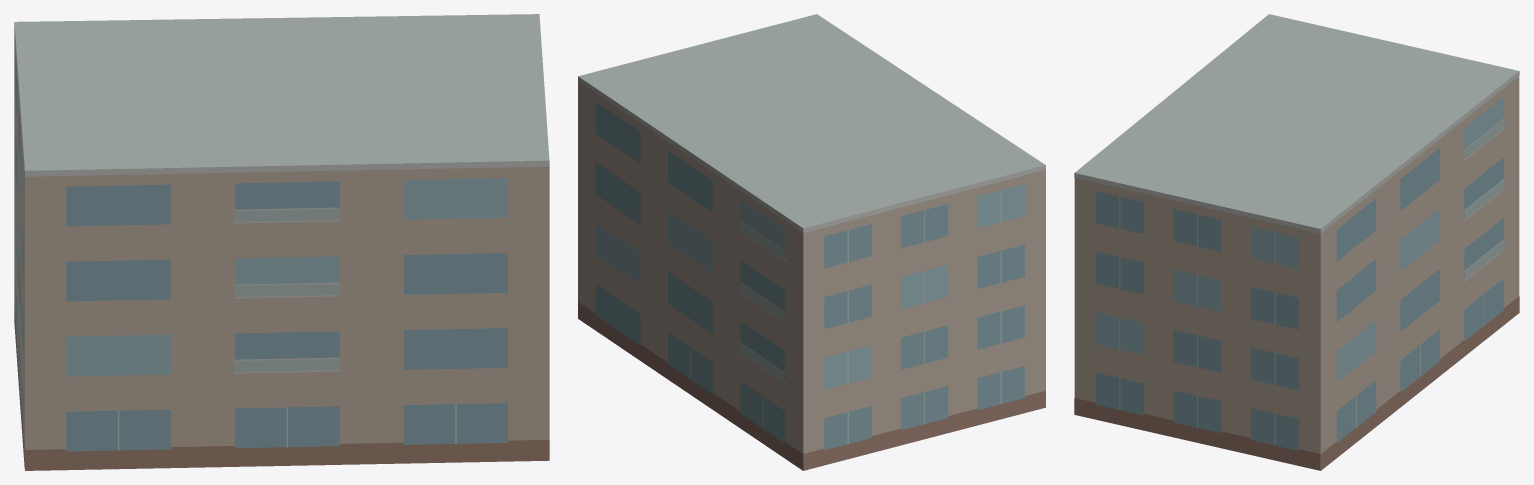
The model's file is survey-upis-32674100.glb.
The picture shows the model from 3 angles, left to right: view 1: azimuth 30°, elevation 25°; view 2: azimuth 150°, elevation 25°; view 3: azimuth 270°, elevation 25°; orthographic projection. The views are drawn at different scales.
Parts seen in each view (by area): view 1: survey-upis-32674100.tmp; view 2: survey-upis-32674100.tmp; view 3: survey-upis-32674100.tmp.
Boxes of the visible parts, bbox=[...] form: survey-upis-32674100.tmp: bbox=[14, 14, 549, 470]; survey-upis-32674100.tmp: bbox=[578, 14, 1045, 470]; survey-upis-32674100.tmp: bbox=[1074, 14, 1519, 470].
Size of the model in its own units: 23.65 by 12.4 by 20.68.
